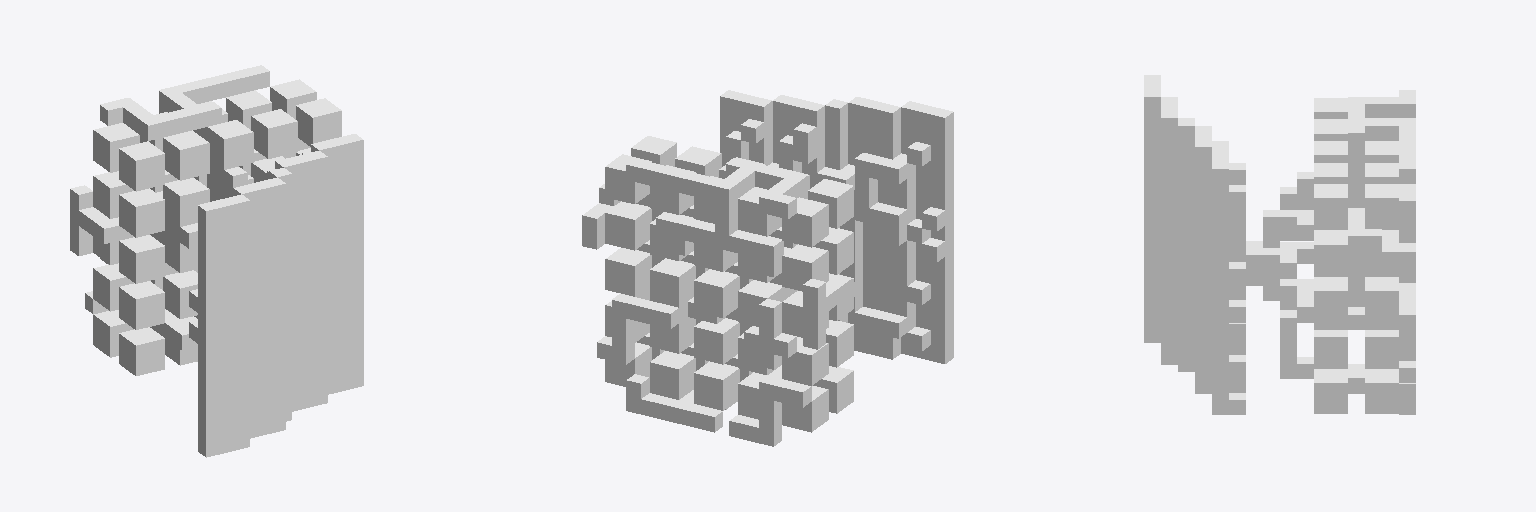
File: ml_colorconverter.obj
3 renders of one model, left to right at view 1: azimuth 30°, elevation 25°; view 2: azimuth 150°, elevation 25°; view 3: azimuth 270°, elevation 25°, orthographic.
Visible parts, largest first — view 1: ml_colorconverter; view 2: ml_colorconverter; view 3: ml_colorconverter.
Part boxes in pixels (left/top/right/bottom): ml_colorconverter: left=70, top=65, right=363, bottom=457; ml_colorconverter: left=582, top=90, right=953, bottom=446; ml_colorconverter: left=1144, top=75, right=1415, bottom=414.
Bounding box in the file's own units: 16 × 16 × 16.